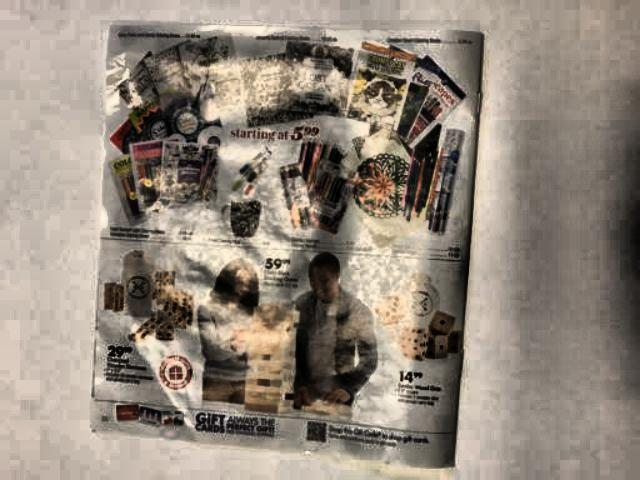Paper: (57, 7, 482, 480)
